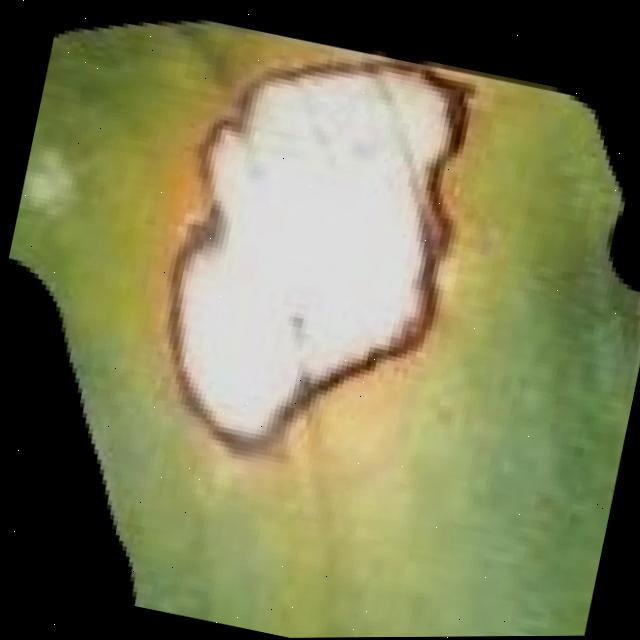mite: (2, 244, 209, 608), (598, 81, 640, 293), (16, 138, 88, 228), (278, 297, 325, 350), (284, 307, 318, 345)
spots: (2, 0, 640, 638)
sunburn: (130, 18, 497, 490)
